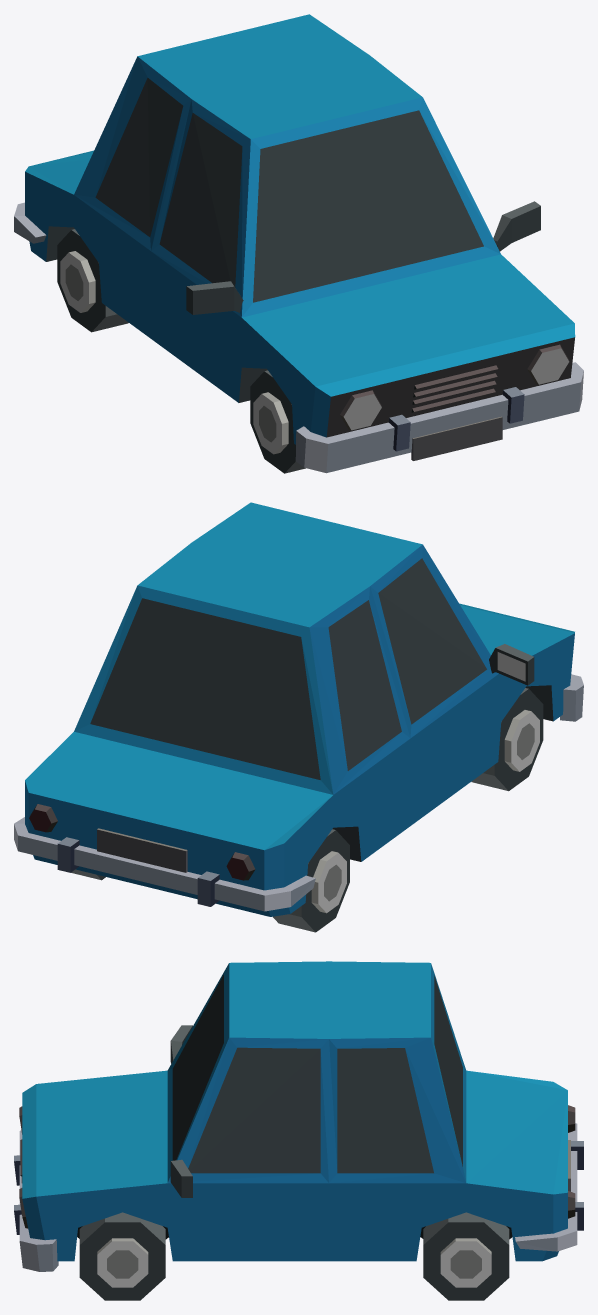
The model's file is TB_CITY_Car_Med_D.FBX.
The picture shows the model from 3 angles, top to bottom: view 1: azimuth 30°, elevation 25°; view 2: azimuth 150°, elevation 25°; view 3: azimuth 270°, elevation 25°; orthographic projection. The views are drawn at different scales.
Parts seen in each view (by area): view 1: TB_CITY_Car_Med_D, TB_Car_Med_Wheel015, TB_Car_Med_Wheel016; view 2: TB_CITY_Car_Med_D, TB_Car_Med_Wheel016, TB_Car_Med_Wheel015; view 3: TB_CITY_Car_Med_D, TB_Car_Med_Wheel013, TB_Car_Med_Wheel014.
Part boxes in pixels (x1,y1,x2,y2): TB_CITY_Car_Med_D: (14, 14, 583, 473); TB_Car_Med_Wheel015: (57, 229, 128, 332); TB_Car_Med_Wheel016: (250, 370, 305, 473); TB_CITY_Car_Med_D: (14, 502, 583, 916); TB_Car_Med_Wheel016: (471, 688, 543, 791); TB_Car_Med_Wheel015: (273, 829, 349, 932); TB_CITY_Car_Med_D: (14, 961, 583, 1271); TB_Car_Med_Wheel013: (423, 1212, 509, 1300); TB_Car_Med_Wheel014: (79, 1212, 165, 1300).
Bounding box in the file's own units: 3.77 × 2.84 × 6.
